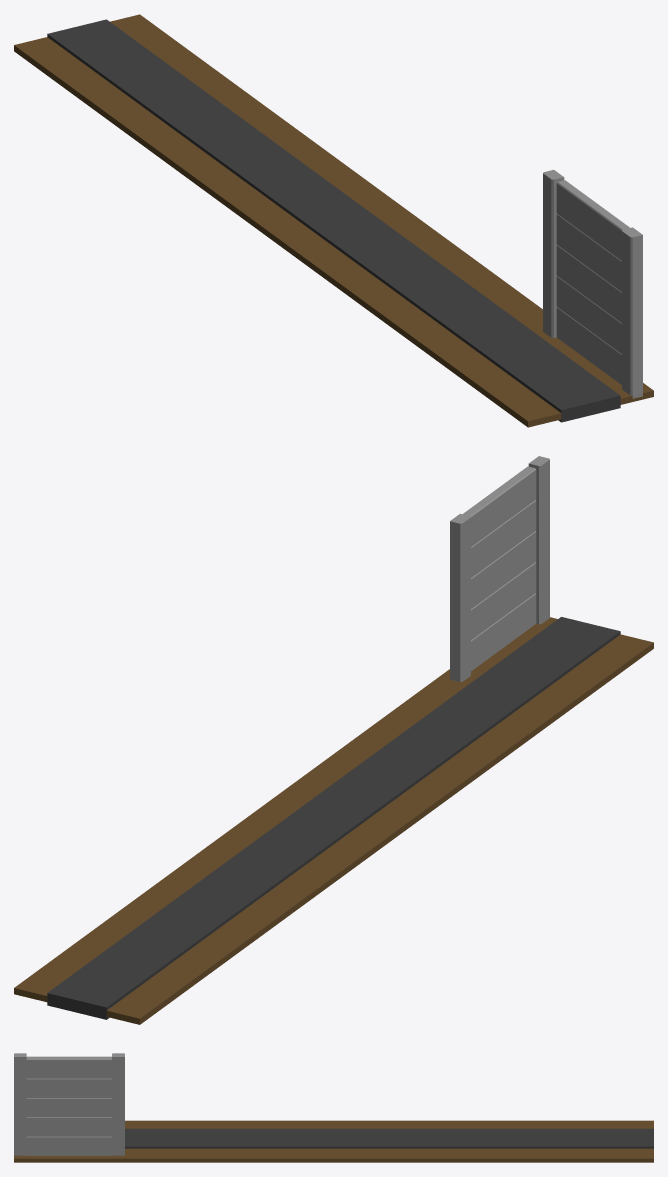
The model's file is Jalan.fbx.
3 renders of one model, top to bottom at view 1: azimuth 30°, elevation 25°; view 2: azimuth 150°, elevation 25°; view 3: azimuth 270°, elevation 25°, orthographic. The views are drawn at different scales.
Parts seen in each view (by area): view 1: Cube.001, Cube, Cube.006; view 2: Cube.001, Cube, Cube.006; view 3: Cube.001, Cube.006, Cube.
Boxes of the visible parts, x1=… form: Cube.001: x1=14, y1=14, x2=653, y2=427; Cube: x1=47, y1=19, x2=620, y2=422; Cube.006: x1=543, y1=169, x2=642, y2=398; Cube.001: x1=14, y1=617, x2=653, y2=1024; Cube: x1=47, y1=617, x2=620, y2=1019; Cube.006: x1=450, y1=456, x2=549, y2=681; Cube.001: x1=14, y1=1120, x2=653, y2=1162; Cube.006: x1=14, y1=1053, x2=124, y2=1155; Cube: x1=125, y1=1128, x2=653, y2=1148.
Size of the model in its own units: 212 by 270 by 1500.
